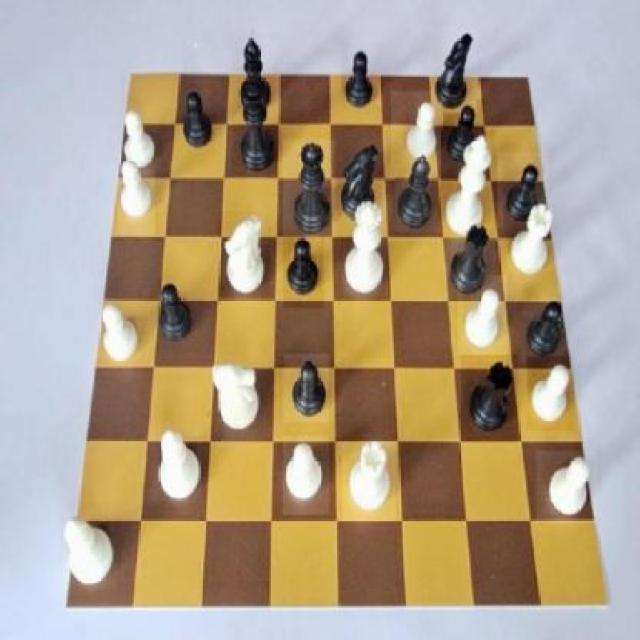bishop: (229, 32, 276, 117), (395, 146, 440, 234)
black-bishop: (232, 64, 278, 176)
black-king: (334, 137, 386, 232), (429, 28, 477, 114)
black-knight: (498, 152, 548, 228), (172, 85, 217, 162), (150, 275, 194, 353), (340, 41, 382, 114), (283, 236, 324, 308), (285, 354, 329, 421), (441, 100, 484, 168), (523, 298, 568, 362)
black-pawn: (283, 139, 335, 236)
black-queen: (460, 354, 518, 443), (446, 218, 496, 301)
black-rook: (58, 503, 121, 599), (150, 424, 202, 504)
white-bishop: (440, 131, 496, 240)
white-king: (208, 354, 268, 444), (217, 212, 270, 297)
white-knight: (536, 451, 596, 523), (391, 90, 443, 168), (91, 298, 144, 374), (458, 276, 508, 356), (283, 436, 329, 514), (528, 357, 575, 432), (117, 150, 155, 234), (112, 106, 160, 169)
white-pawn: (343, 194, 389, 297)
white-queen: (503, 203, 559, 283), (343, 442, 397, 520)
